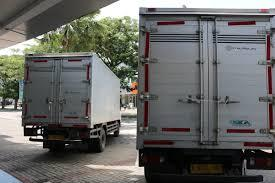truck: (135, 2, 275, 183), (18, 49, 125, 156)
